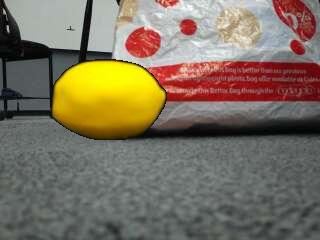lemon: (52, 61, 164, 138)
